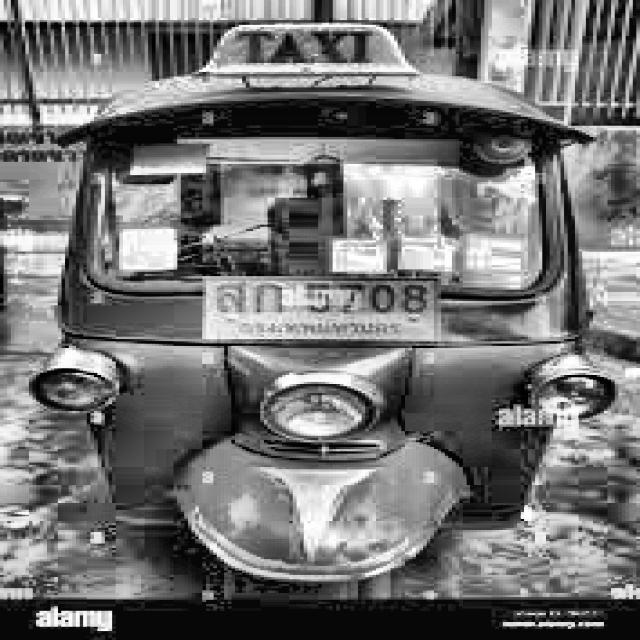license-plate: (207, 277, 433, 345)
